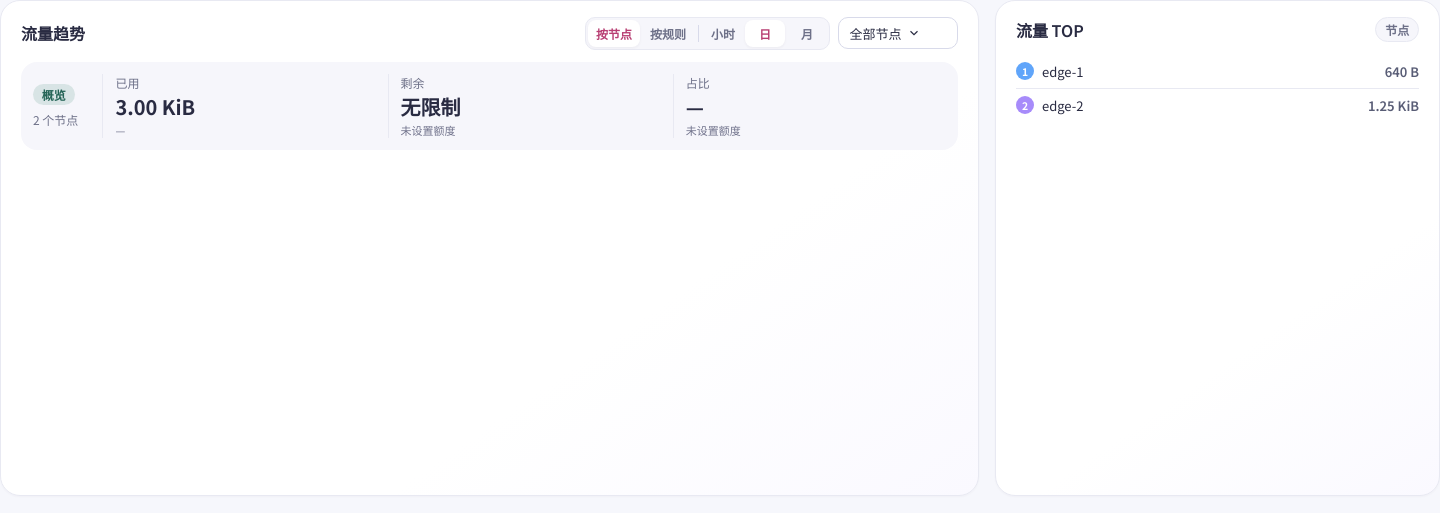
Test: DashboardTrafficModule › renders overlapping top rules from different agents without duplicate Vue keys
This screenshot has width=1440, height=513.
Expected: the button with test id "trend-view-btn" showing "按节点" is shown, [588, 20, 640, 47]
Click the button with test id "trend-view-btn" showing "按规则". click: (668, 33)
box: [642, 20, 694, 47]
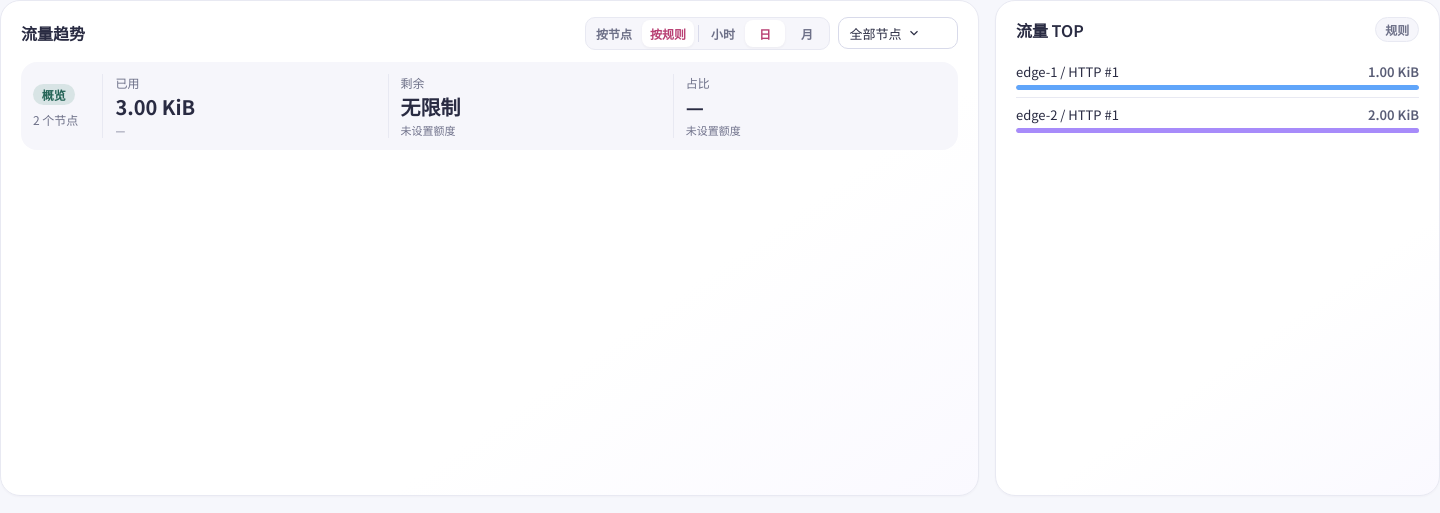
Expected: the number of elements with class "dt-top-rule" is 2, [1016, 54, 1419, 98]; [1016, 98, 1419, 140]
Expected: the text "edge-1 / HTTP #1" is shown, [1016, 62, 1119, 81]
Expected: the text "edge-2 / HTTP #1" is shown, [1016, 105, 1119, 124]
